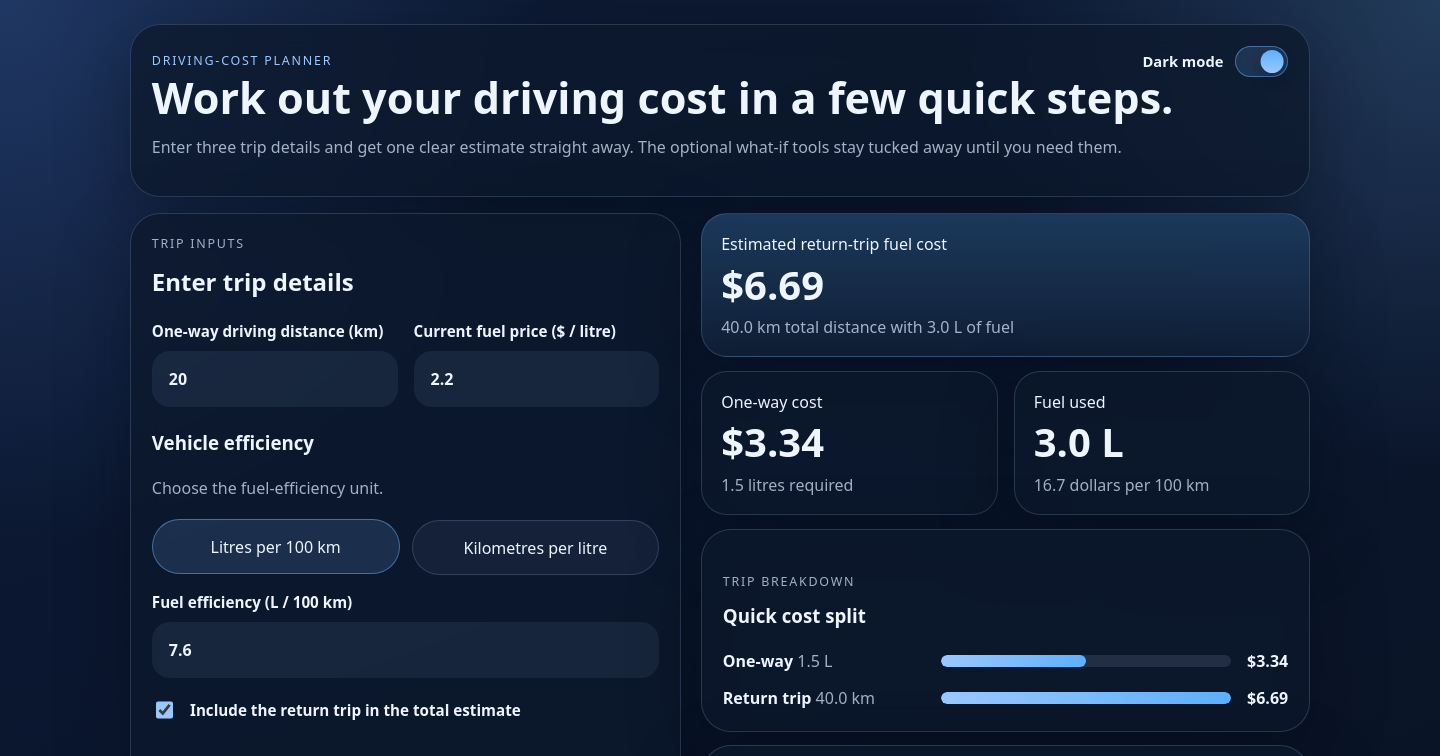
Test: App › clamps overly large input values to the practical limits
Replace the text in the number field labelled "One-way driving distance (km)" with "999999" at point(275, 379), box left=152, top=351, right=398, bottom=407
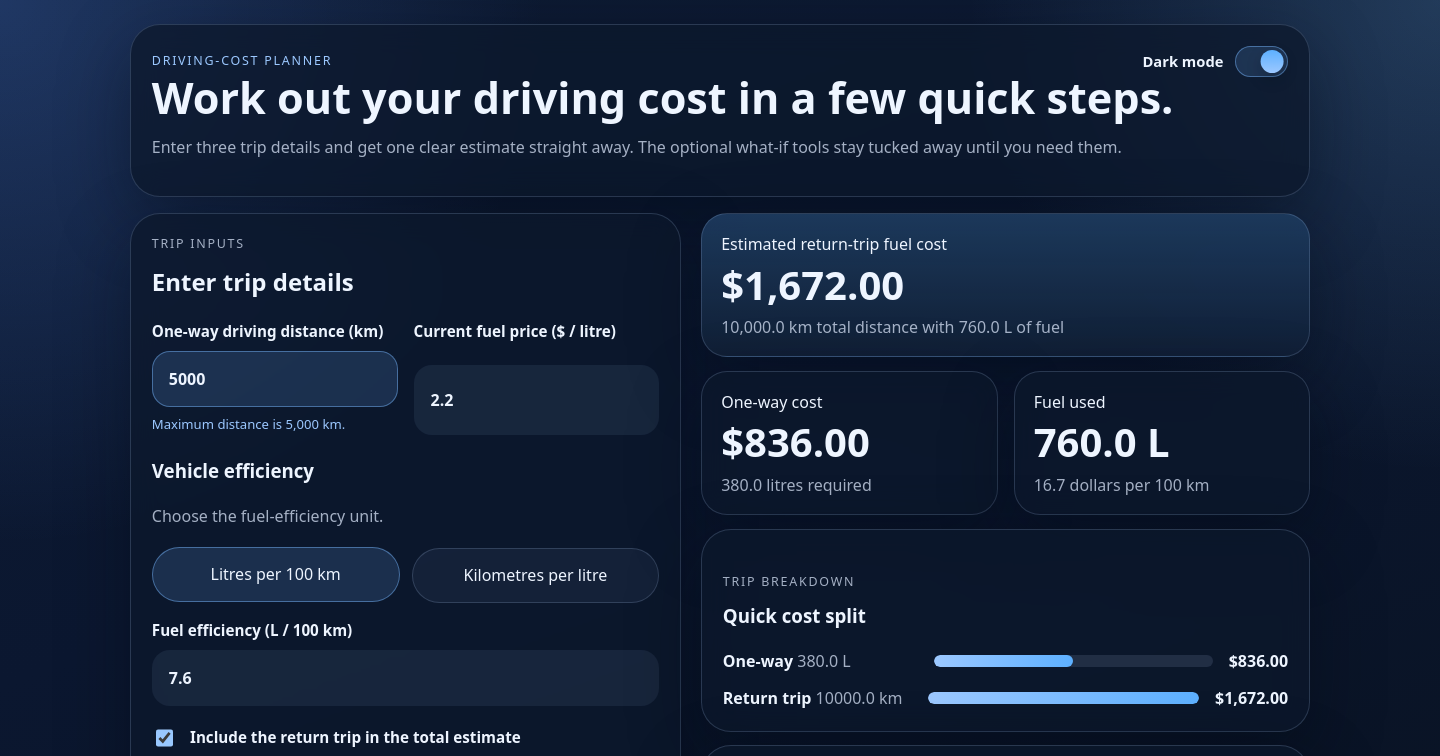
Replace the text in the number field labelled "Current fuel price ($ / litre)" with "99" at point(536, 400), box left=414, top=365, right=659, bottom=435
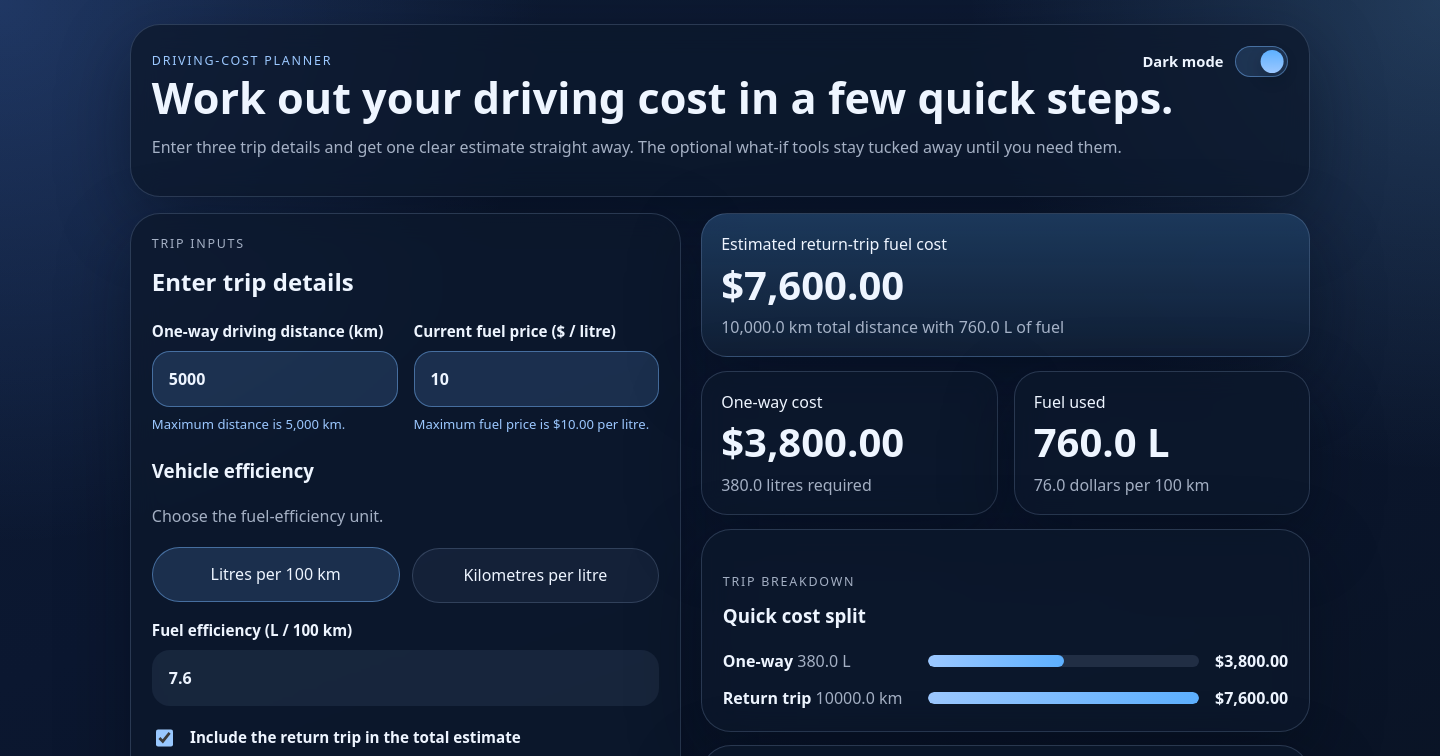
Replace the text in the number field labelled "Fuel efficiency (L / 100 km)" with "99" at point(406, 678), box left=152, top=650, right=659, bottom=706
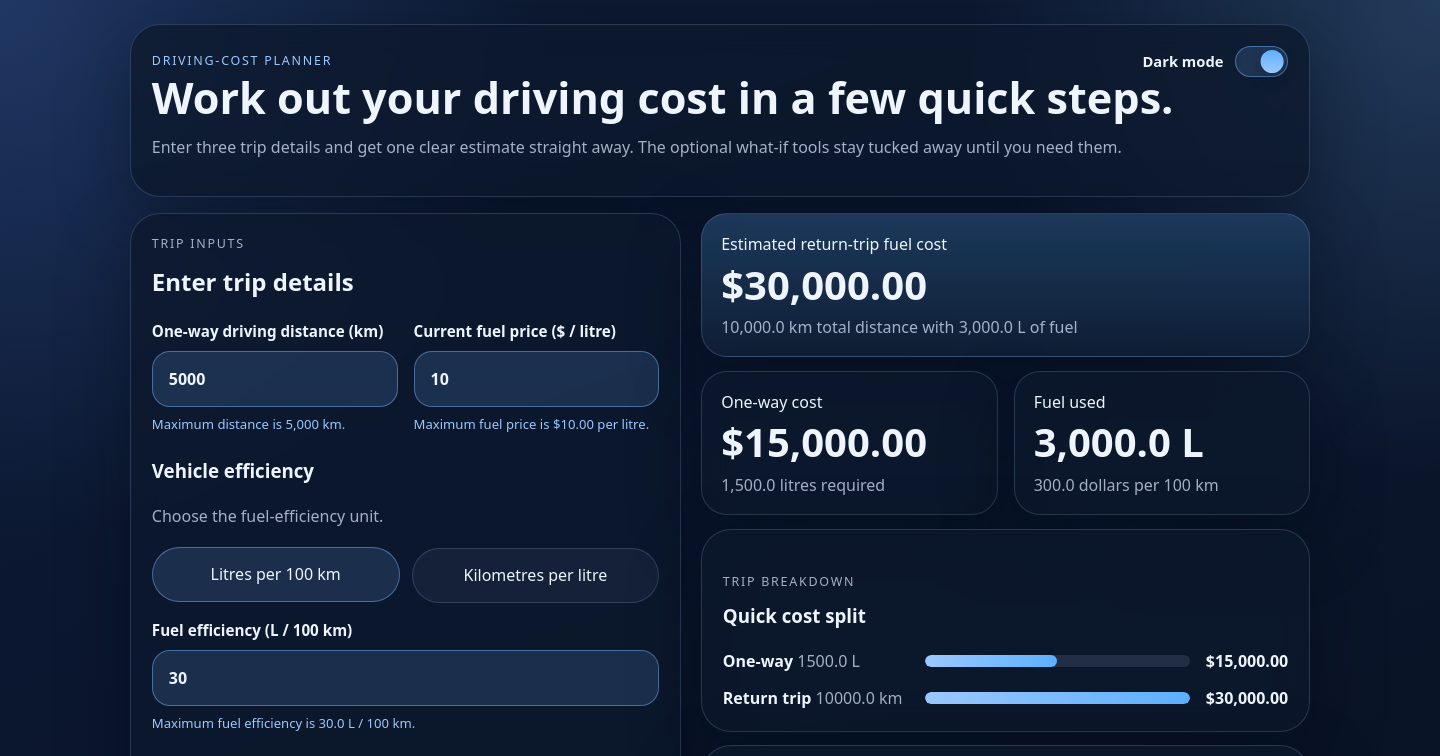
Expected: the number field labelled "One-way driving distance (km)" holds "5000"
Expected: the number field labelled "Current fuel price ($ / litre)" holds "10", left=414, top=351, right=659, bottom=407
Expected: the number field labelled "Fuel efficiency (L / 100 km)" holds "30", left=152, top=650, right=659, bottom=706
Replace the text in the number field labelled "One-way driving distance (km)" with "250" at point(275, 379), box left=152, top=351, right=398, bottom=407
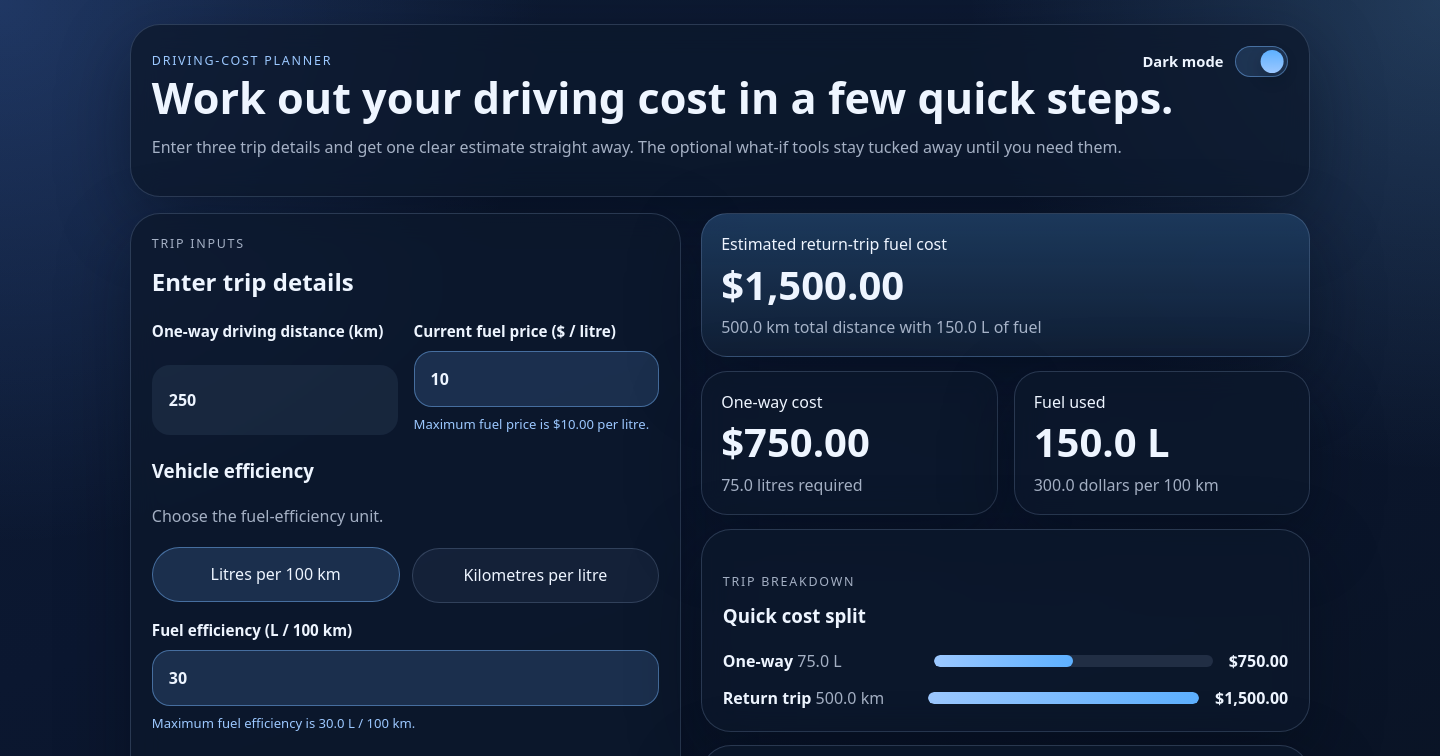
Expected: the text "Maximum distance is 5,000 km." is gone
Expected: the text "$1,500.00" below "Estimated return-trip fuel cost" is shown, left=721, top=256, right=904, bottom=312
Expected: the text "500.0 km total distance with 150.0 L of fuel" is shown, left=721, top=316, right=1042, bottom=338
